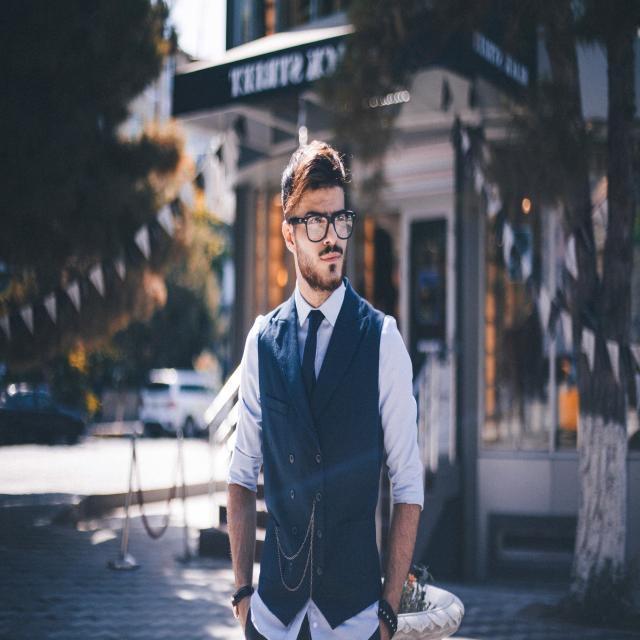adult: (227, 136, 418, 640)
